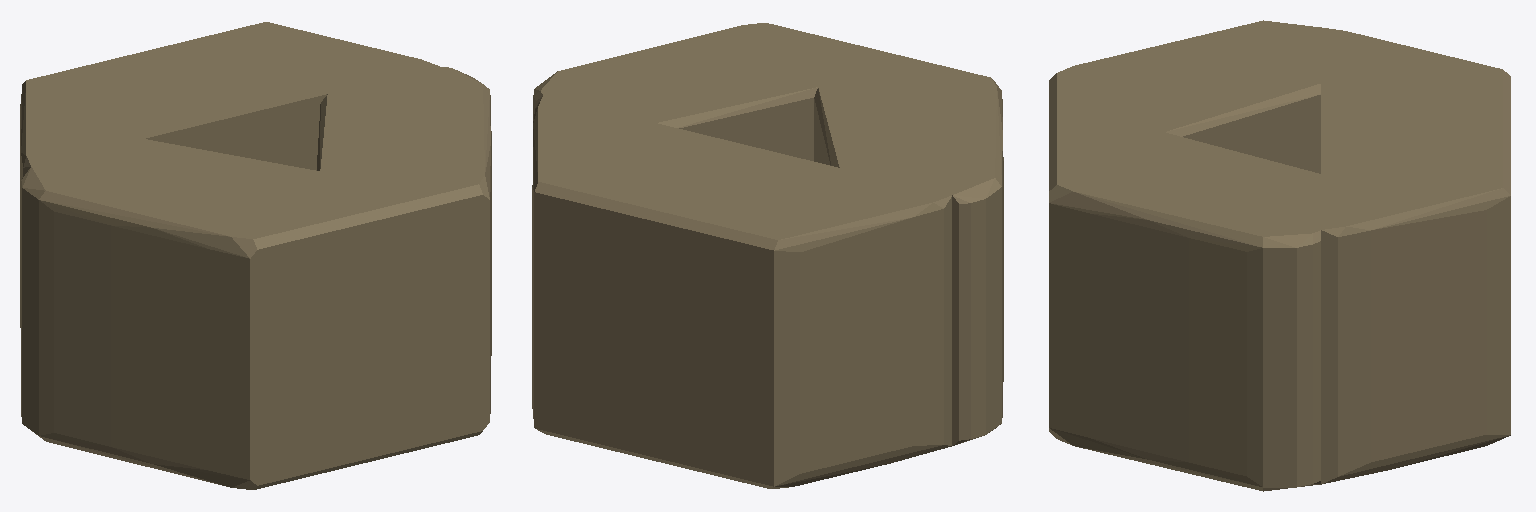
The robot description file, URDF, robot "Nut":
<?xml version="1.0"?>
<robot name="Nut">
  <link name="base_link">
    <visual>
      <origin xyz="0 0 0" rpy="0 0 0" />
      <geometry>
        <mesh filename="Nut.obj" />      
      </geometry>
      <material name="tan">
        <color rgba="0.55 0.5 0.4 1" />
      </material>
    </visual>
    <collision>
      <origin xyz="0 0 0" rpy="0 0 0" />
      <geometry>
        <mesh filename="Nut.obj" />
      </geometry>
    </collision>
  </link>
</robot>

--- What the picture shows (computed from the rendered views, not written in the file) ---
3 views of the same robot in one strip: view 1: azimuth 30°, elevation 25°; view 2: azimuth 150°, elevation 25°; view 3: azimuth 270°, elevation 25° (orthographic).
Robot: Nut — 1 links, 0 joints (none); root link base_link; default pose: every joint at zero.
Visible links, largest first — view 1: base_link; view 2: base_link; view 3: base_link.
Boxes of the visible links, x1,y1,x2,y2 form: base_link: (20, 22, 491, 489); base_link: (532, 23, 1003, 488); base_link: (1049, 20, 1510, 491).
Bounding box of the posed robot: 36.84 × 32.24 × 19.57 m (x, y, z).
Meshes: 1 distinct files referenced, 1 mesh visuals loaded (1 OBJ).
